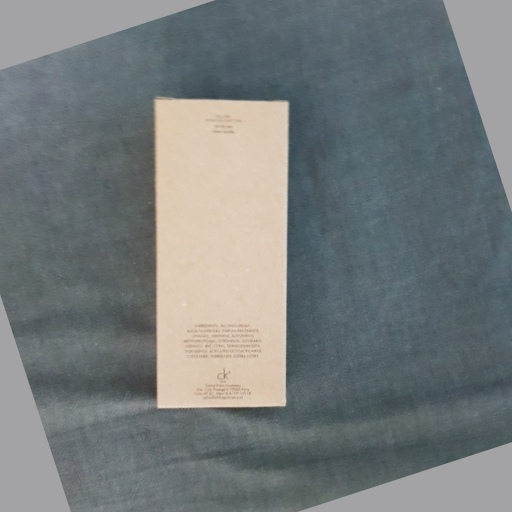Paper_0: (145, 90, 296, 417)
